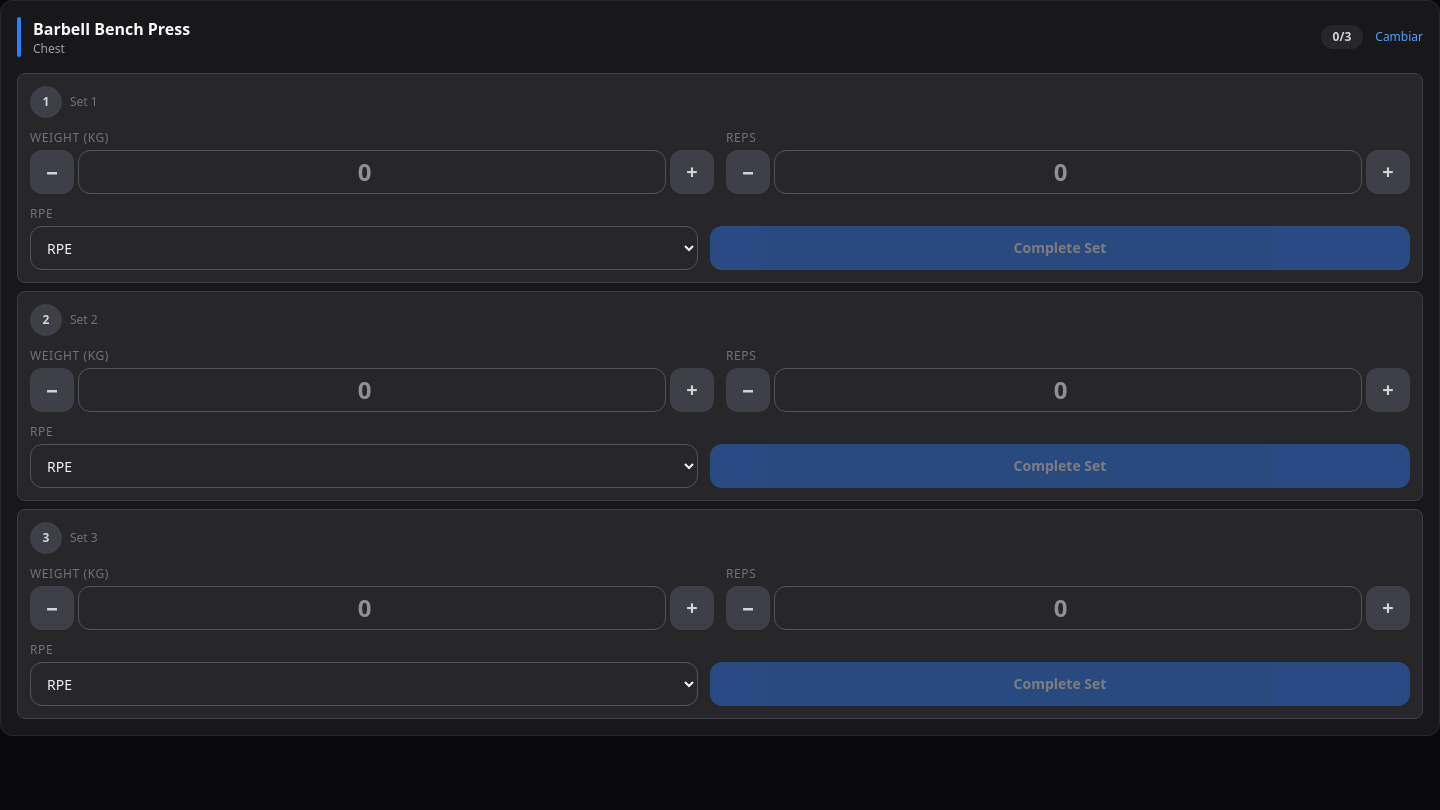
it: WorkoutLogger › opens substitution sheet when Cambiar is clicked
This screenshot has width=1440, height=810.
What coordinates should you click on to do the following:
click the button "Cambiar"
I would click on:
 (1399, 37)
Its box is [1375,29,1423,45].
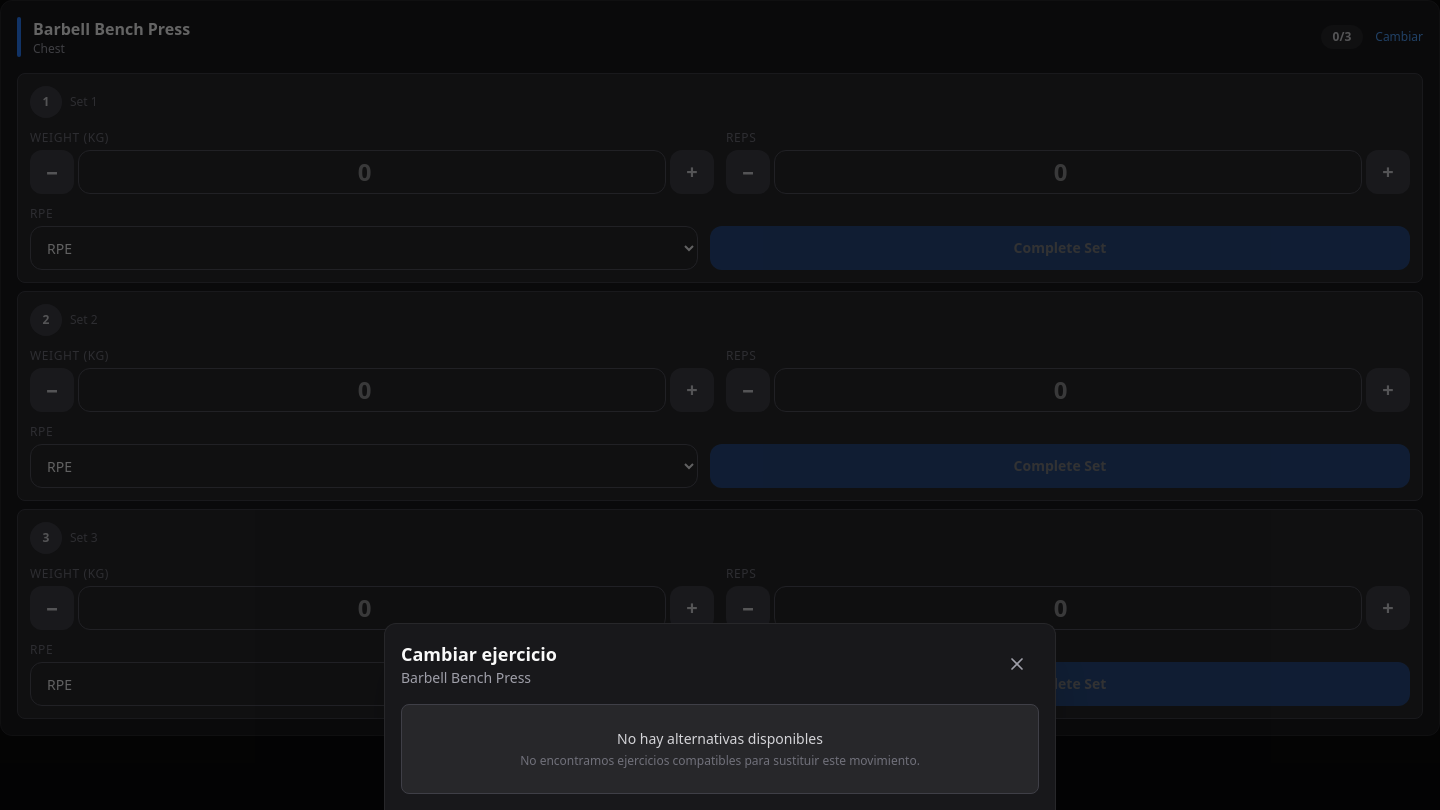
Expected: the text "No hay alternativas disponibles" is shown, [617,729,823,748]
